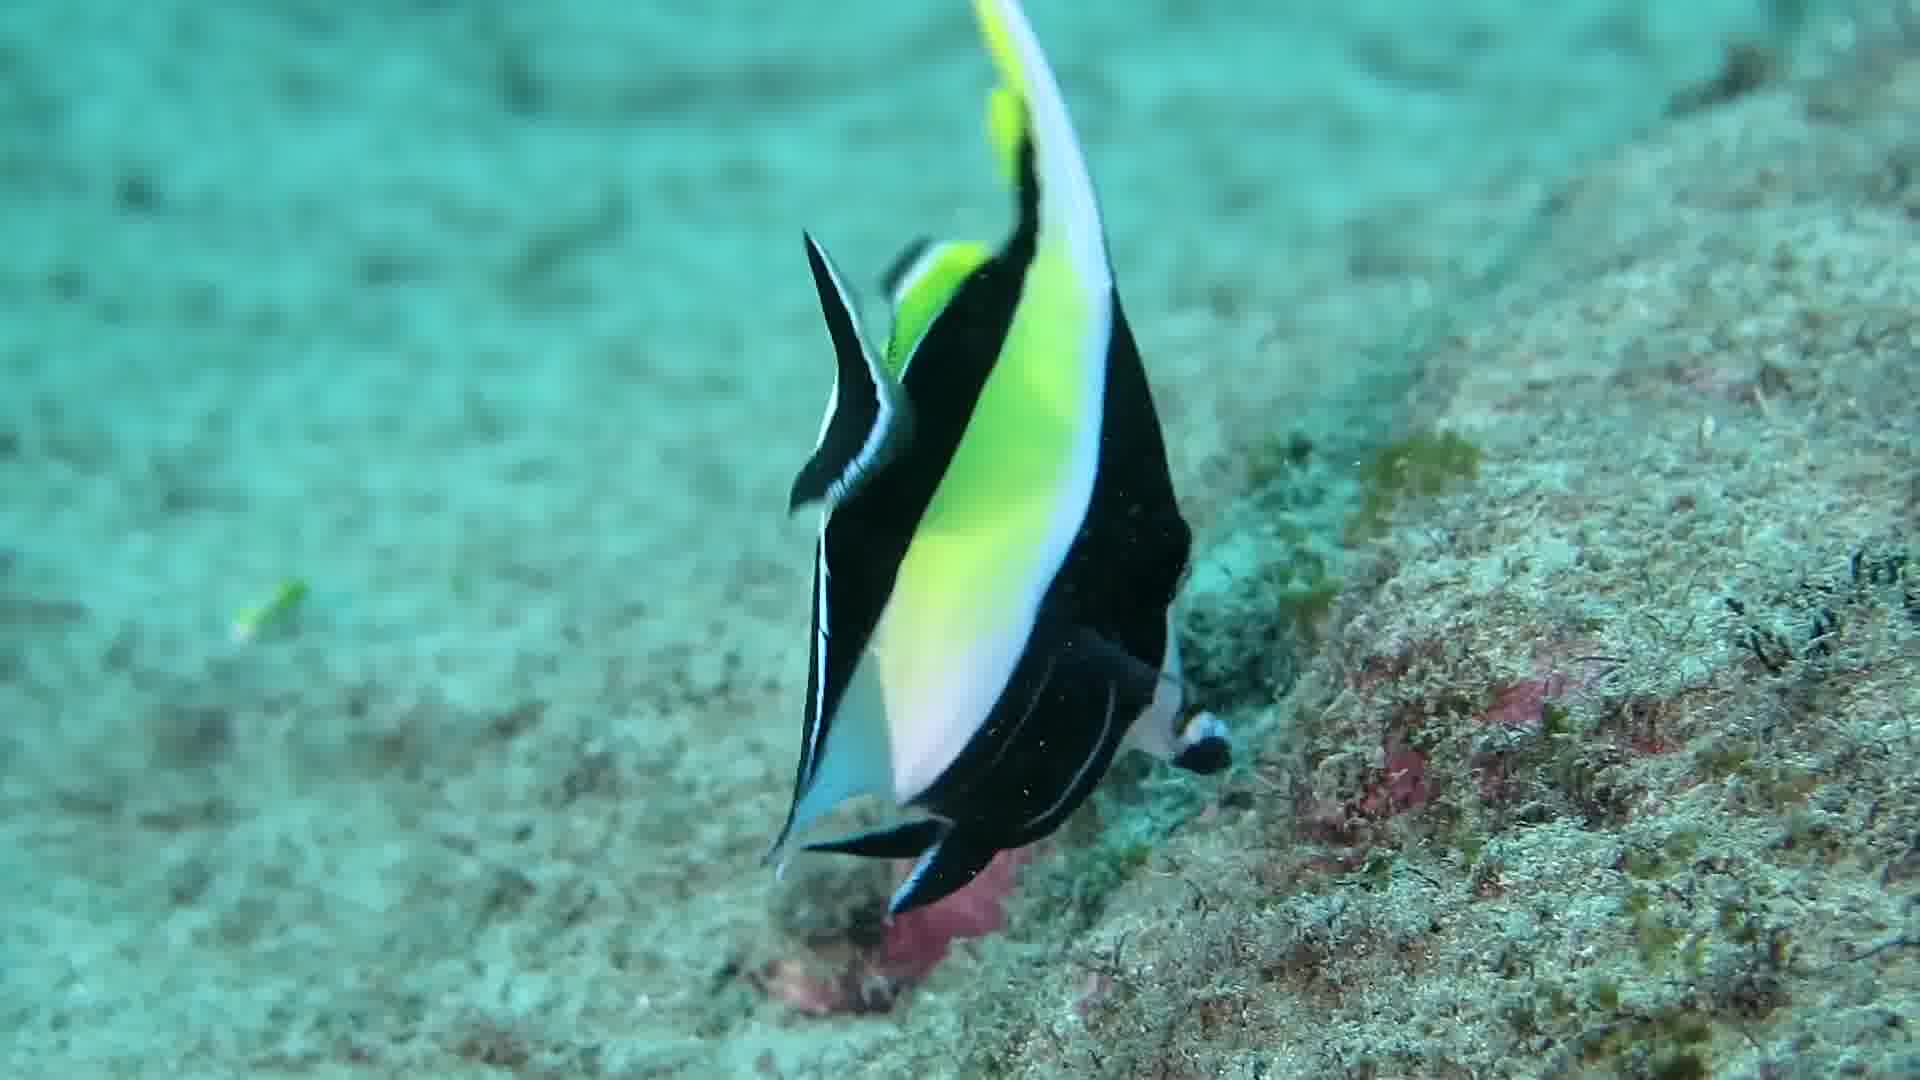Zanclus cornutus: (578, 135, 1487, 956)
